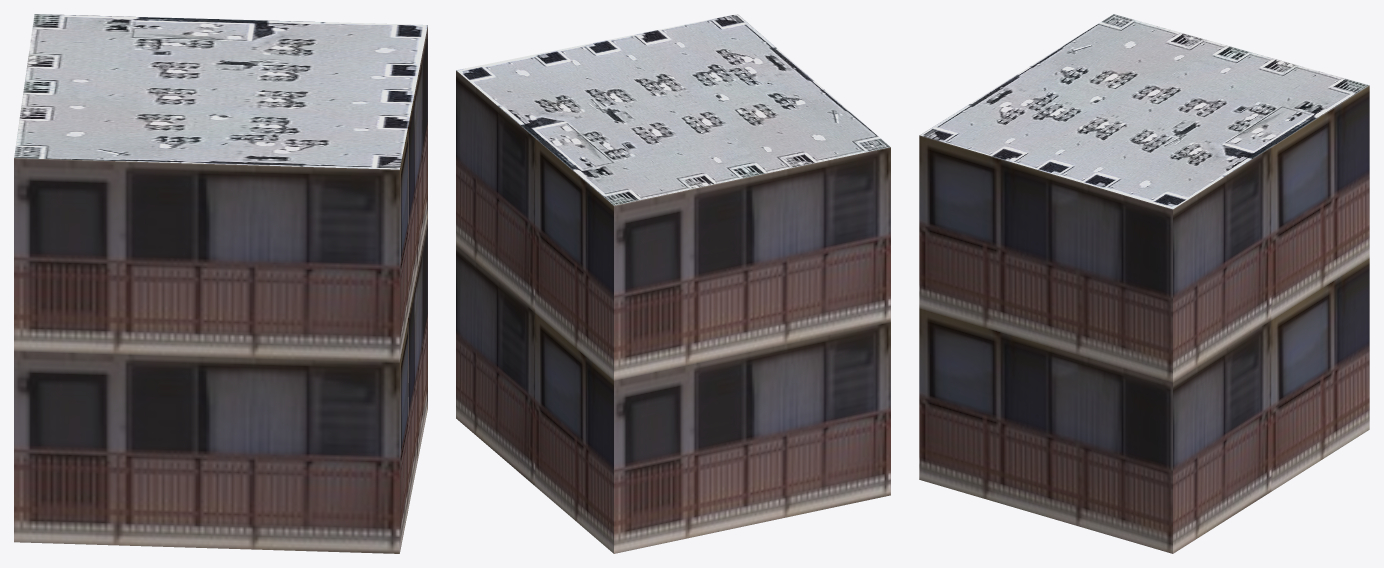
The model's file is ResTex__4637.fbx.
3 renders of one model, left to right at view 1: azimuth 30°, elevation 25°; view 2: azimuth 150°, elevation 25°; view 3: azimuth 270°, elevation 25°, orthographic. The views are drawn at different scales.
Visible parts, largest first — view 1: CityEngineMaterial_6_m, CityEngineMaterial_2_m; view 2: CityEngineMaterial_6_m, CityEngineMaterial_2_m; view 3: CityEngineMaterial_6_m, CityEngineMaterial_2_m.
Boxes of the visible parts, x1,y1,x2,y2 form: CityEngineMaterial_6_m: (14,25,427,553); CityEngineMaterial_2_m: (14,14,427,169); CityEngineMaterial_6_m: (456,70,890,553); CityEngineMaterial_2_m: (456,14,890,205); CityEngineMaterial_6_m: (919,85,1369,553); CityEngineMaterial_2_m: (920,14,1368,209).
Size of the model in its own units: 7.3 by 6 by 7.1.
Materials: 2 (2 with a texture image).
